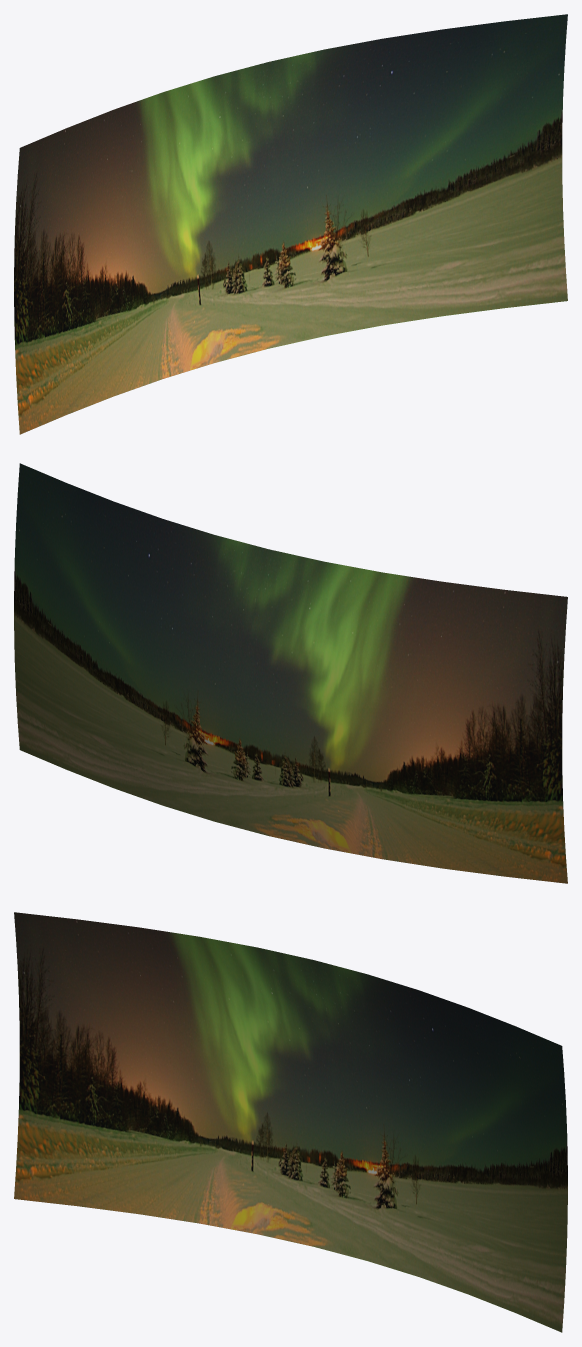
File: C_Aurora_Coral.fbx
3 views of the same model, one above another, from view 1: azimuth 30°, elevation 25°; view 2: azimuth 150°, elevation 25°; view 3: azimuth 330°, elevation 25° (orthographic).
Visible parts, largest first — view 1: pPlane1; view 2: pPlane1; view 3: pPlane1.
Boxes of the visible parts, x1,y1,x2,y2 form: pPlane1: (14,14,567,434); pPlane1: (14,463,567,883); pPlane1: (14,912,567,1332).
Bounding box in the file's own units: 400 × 200 × 42.49.
1 material, 1 textured.
